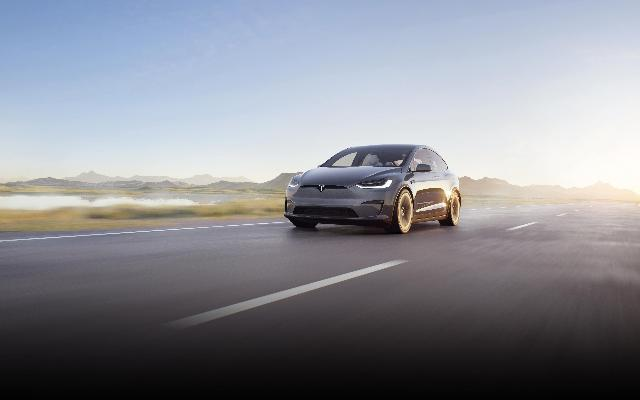tesla: (282, 143, 462, 232)
